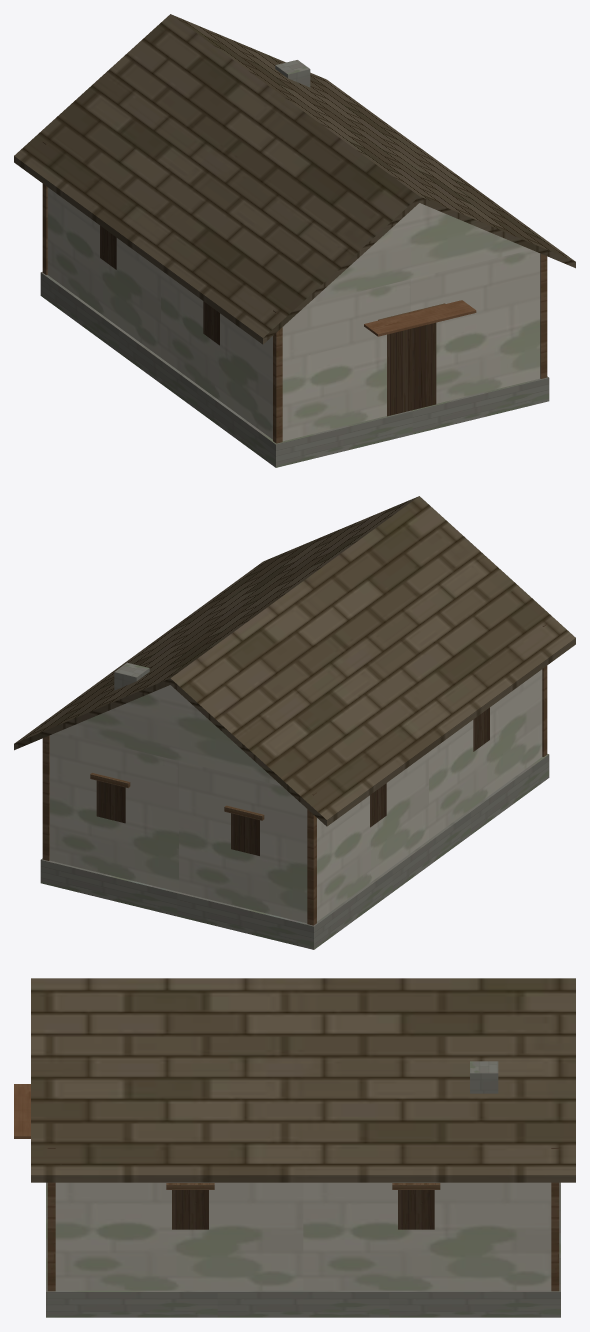
The model's file is ae_forest_stone_large_hall_lod1.glb.
3 views of the same model, one above another, from view 1: azimuth 30°, elevation 25°; view 2: azimuth 150°, elevation 25°; view 3: azimuth 270°, elevation 25° (orthographic). The views are drawn at different scales.
Visible parts, largest first — view 1: ae_forest_stone_large_hall_lod1; view 2: ae_forest_stone_large_hall_lod1; view 3: ae_forest_stone_large_hall_lod1.
Boxes of the visible parts, x1,y1,x2,y2 form: ae_forest_stone_large_hall_lod1: (14, 14, 575, 467); ae_forest_stone_large_hall_lod1: (14, 496, 575, 949); ae_forest_stone_large_hall_lod1: (14, 978, 575, 1317).
Bounding box in the file's own units: 7 × 5.2 × 9.95.
Materials: 1 (1 with a texture image).
